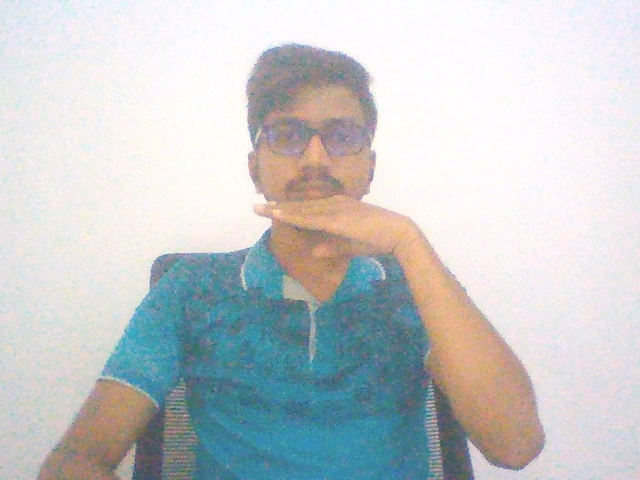elephant: (223, 175, 465, 284)
